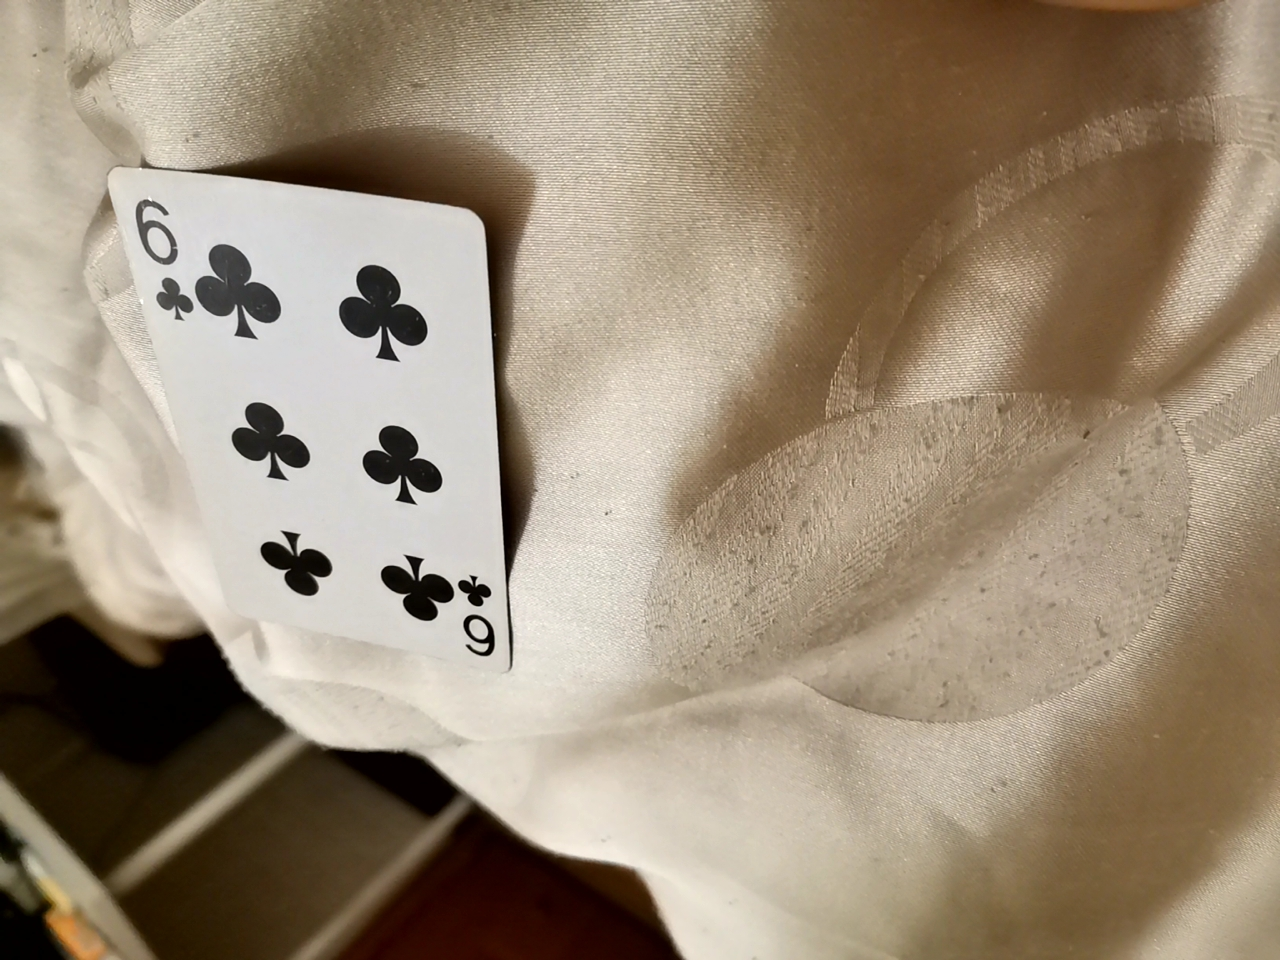mh 6: (128, 169, 505, 640)
